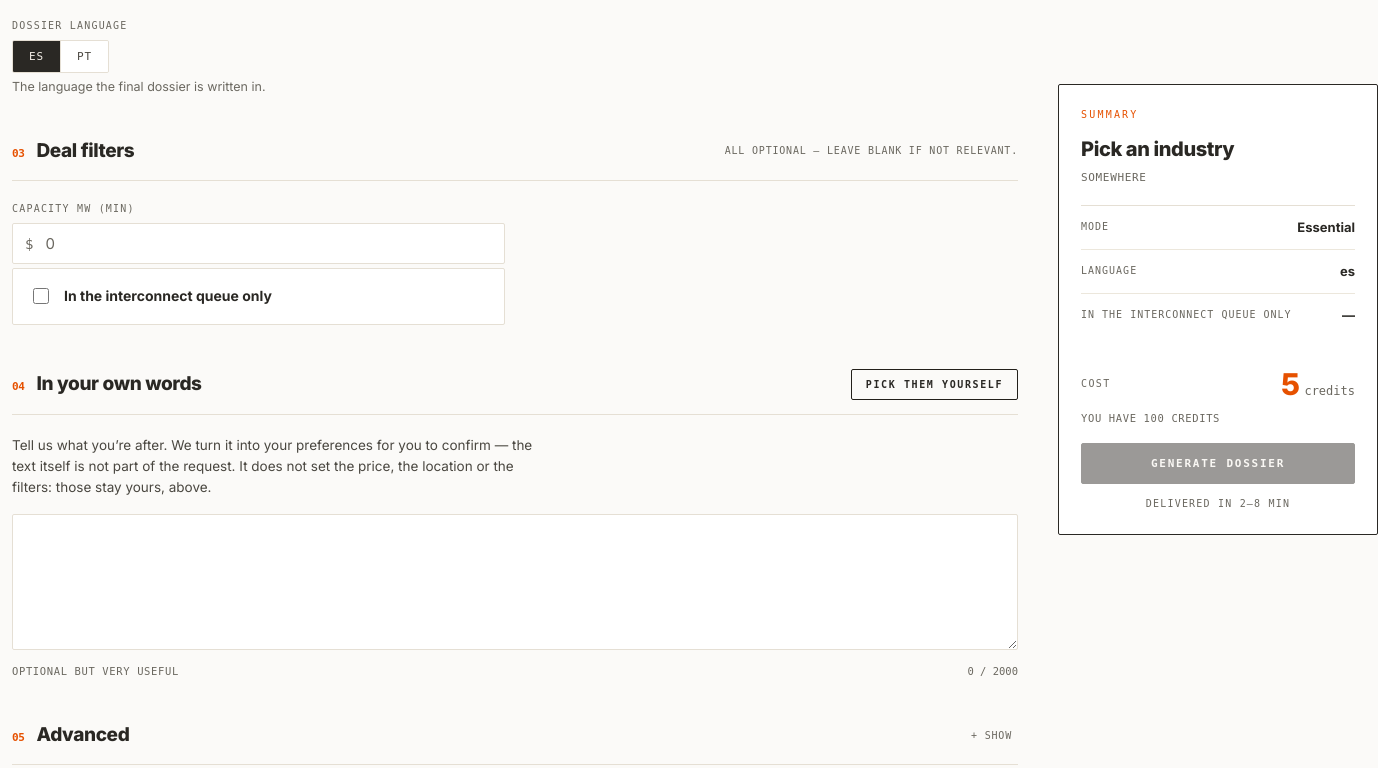
Test case: the directive block comes entirely from the manifest › renders fields, help text and options the client has never heard of
(page scrolled)
Click the button with test id "toggle-preferences" at x=934, y=384, box [851,369,1018,400]
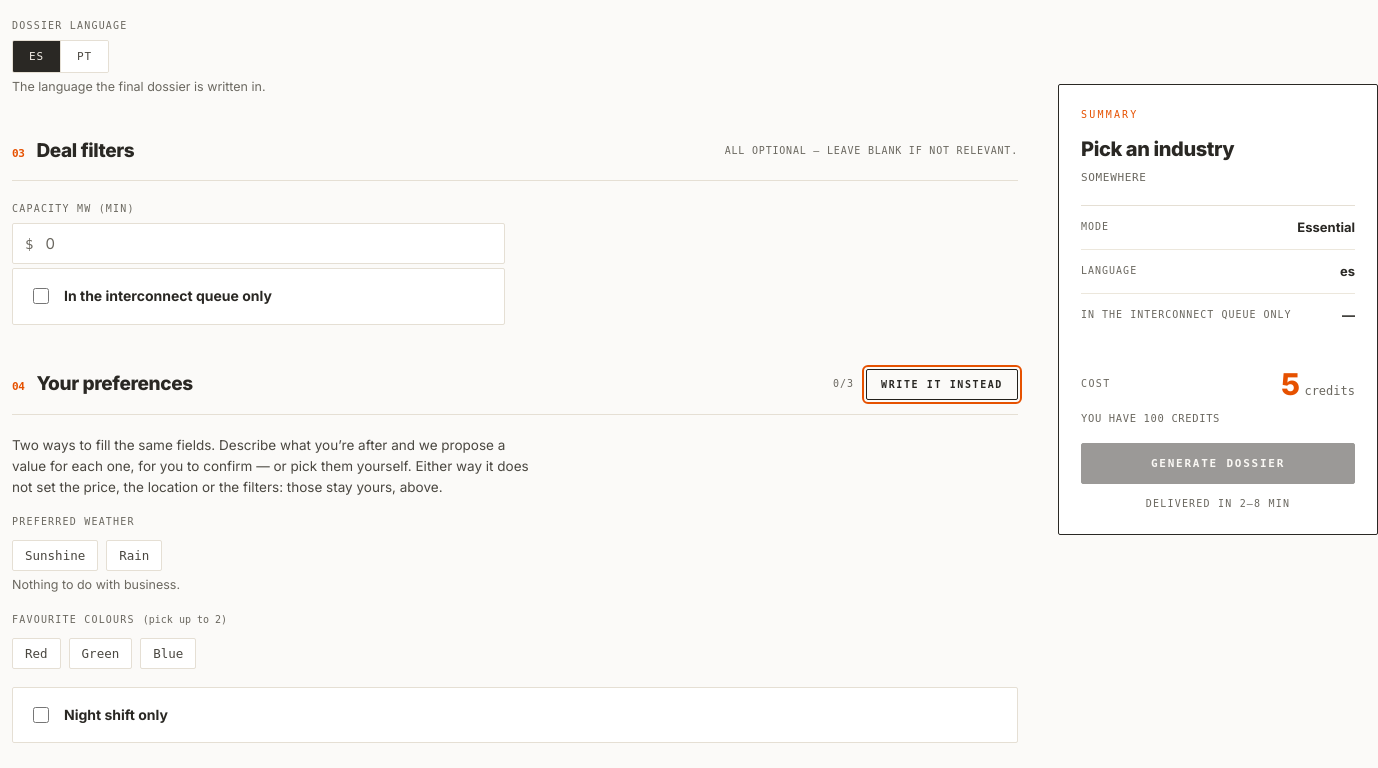
Check: the text "Preferred weather" is shown, box [12,516,135,527]
Check: the text "Nothing to do with business." is shown, box [12,577,180,592]
Check: the button "Sunshine" is shown, box [12,540,98,571]
